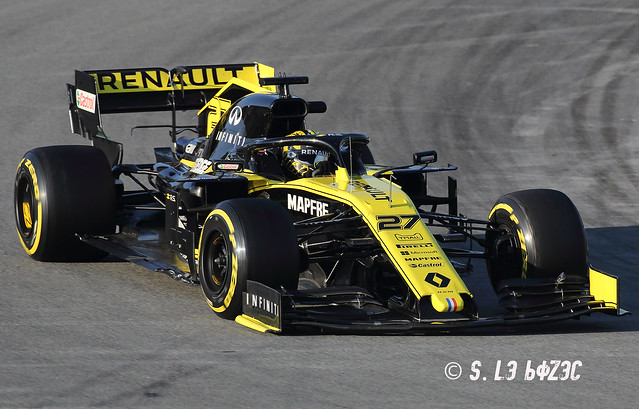F1 Car: (10, 60, 629, 337)
